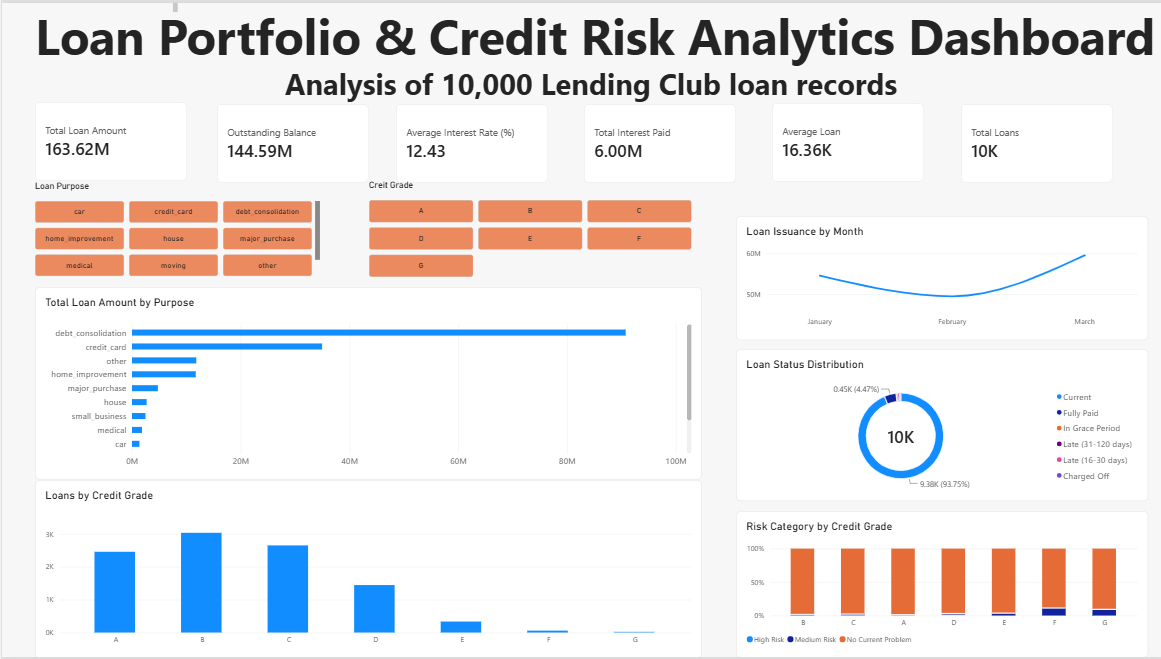

The dashboard page shown, as its layout file describes it:
{"tool":"powerbi","page":{"name":"Dashboard","canvas":[1920,1080],"ordinal":0},"visuals":[{"type":"textbox","box":[9.9,0,280.4,14.8],"z":0},{"type":"textbox","box":[54.4,0,1865.6,140.2],"z":1000},{"type":"textbox","box":[466.8,99,1016.1,77.5],"z":2000},{"type":"cardVisual","fields":{"Data":["Sum(loan_portfolio_final.loan_amount)"]},"box":[54.4,163.3,250,130],"z":3000},{"type":"cardVisual","fields":{"Data":["Sum(loan_portfolio_final.balance)"]},"box":[354.6,166.6,250,130],"z":4000},{"type":"cardVisual","fields":{"Data":["CountNonNull(loan_portfolio_final.loan_amount)"]},"box":[1581.9,166.6,250,130],"z":5000},{"type":"cardVisual","fields":{"Data":["Avg(loan_portfolio_final.interest_rate)"]},"box":[649.9,166.6,250,130],"z":6000},{"type":"cardVisual","fields":{"Data":["Sum(loan_portfolio_final.paid_interest)"]},"box":[960,166.6,250,130],"z":7000},{"type":"cardVisual","fields":{"Data":["Avg(loan_portfolio_final.loan_amount)"]},"box":[1270.1,164.9,250,130],"z":8000},{"type":"barChart","title":"Total Loan Amount by Purpose","fields":{"Category":["loan_portfolio_final.loan_purpose"],"Y":["Sum(loan_portfolio_final.loan_amount)"]},"box":[54.4,468.5,1100.2,318.4],"z":9000},{"type":"donutChart","title":"Loan Status Distribution","fields":{"Category":["loan_portfolio_final.loan_status"],"Y":["CountNonNull(loan_portfolio_final.loan_amount)"]},"box":[1210.7,570.7,679.6,250.7],"z":10000},{"type":"columnChart","title":"Loans by Credit Grade","fields":{"Category":["loan_portfolio_final.grade"],"Y":["CountNonNull(loan_portfolio_final.loan_amount)"]},"box":[54.4,786.8,1100.2,293.6],"z":11000},{"type":"hundredPercentStackedColumnChart","title":"Risk Category by Credit Grade","fields":{"Category":["loan_portfolio_final.grade"],"Series":["loan_portfolio_final.risk_category"],"Y":["CountNonNull(loan_portfolio_final.loan_amount)"]},"box":[1210.7,837.9,679.6,242.5],"z":12000},{"type":"lineChart","title":"Loan Issuance by Month","fields":{"Category":["loan_portfolio_final.issue_month.Variation.Date Hierarchy.Month"],"Y":["Sum(loan_portfolio_final.loan_amount)"]},"box":[1210.7,351.3,679.6,204.5],"z":13000},{"type":"advancedSlicerVisual","title":"Loan Purpose","fields":{"Values":["loan_portfolio_final.loan_purpose"]},"box":[54.4,293.6,470.1,158.4],"z":13001},{"type":"advancedSlicerVisual","title":"Creit Grade","fields":{"Values":["loan_portfolio_final.grade"]},"box":[605.4,292,532.8,160],"z":13002}]}

Visuals, with their boxes in screenshot pixels (x1, y1, x2, y2), scaled from the page's 1920x1080 canvas onto the 1161x659 screenshot:
textbox: crop(6, 0, 176, 9)
textbox: crop(33, 0, 1160, 86)
textbox: crop(282, 60, 897, 108)
cardVisual - Sum(loan_portfolio_final.loan_amount): crop(33, 100, 184, 179)
cardVisual - Sum(loan_portfolio_final.balance): crop(214, 102, 366, 181)
cardVisual - CountNonNull(loan_portfolio_final.loan_amount): crop(957, 102, 1108, 181)
cardVisual - Avg(loan_portfolio_final.interest_rate): crop(393, 102, 544, 181)
cardVisual - Sum(loan_portfolio_final.paid_interest): crop(580, 102, 732, 181)
cardVisual - Avg(loan_portfolio_final.loan_amount): crop(768, 101, 919, 180)
"Total Loan Amount by Purpose" barChart: crop(33, 286, 698, 480)
"Loan Status Distribution" donutChart: crop(732, 348, 1143, 501)
"Loans by Credit Grade" columnChart: crop(33, 480, 698, 658)
"Risk Category by Credit Grade" hundredPercentStackedColumnChart: crop(732, 511, 1143, 658)
"Loan Issuance by Month" lineChart: crop(732, 214, 1143, 339)
"Loan Purpose" advancedSlicerVisual: crop(33, 179, 317, 276)
"Creit Grade" advancedSlicerVisual: crop(366, 178, 688, 276)
